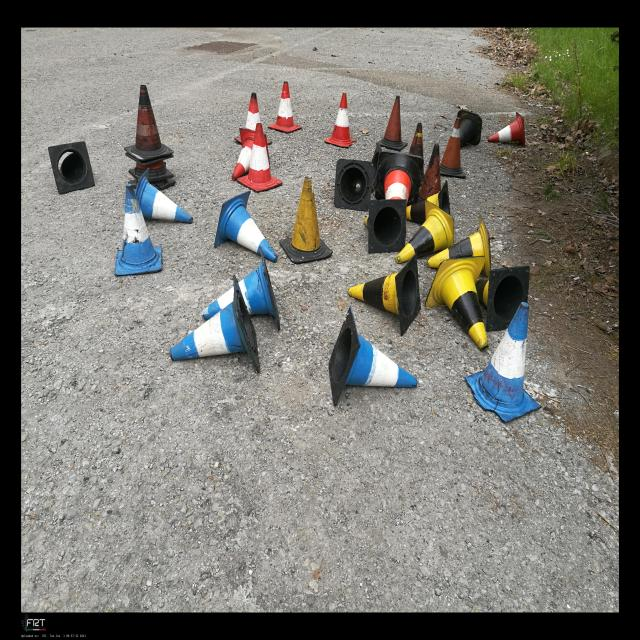blue_cone: (464, 302, 542, 423), (170, 275, 260, 373), (329, 306, 417, 406), (202, 246, 280, 332), (214, 191, 278, 262), (115, 184, 162, 276), (135, 167, 193, 224)
large_orange_cone: (376, 152, 424, 206)
orange_cone: (237, 123, 282, 192), (234, 92, 272, 145), (232, 128, 270, 181), (324, 92, 357, 148), (268, 82, 301, 133), (488, 112, 525, 147)
unknown_cone: (280, 174, 332, 264), (124, 85, 174, 161), (48, 141, 95, 194), (334, 158, 372, 210), (376, 95, 408, 151), (440, 118, 466, 178), (418, 144, 441, 202), (457, 109, 482, 148), (408, 122, 424, 158)
yellow_cone: (348, 253, 421, 336), (426, 256, 489, 352), (428, 215, 491, 278), (395, 200, 454, 264), (476, 265, 530, 332), (364, 199, 406, 253), (406, 180, 451, 223)
